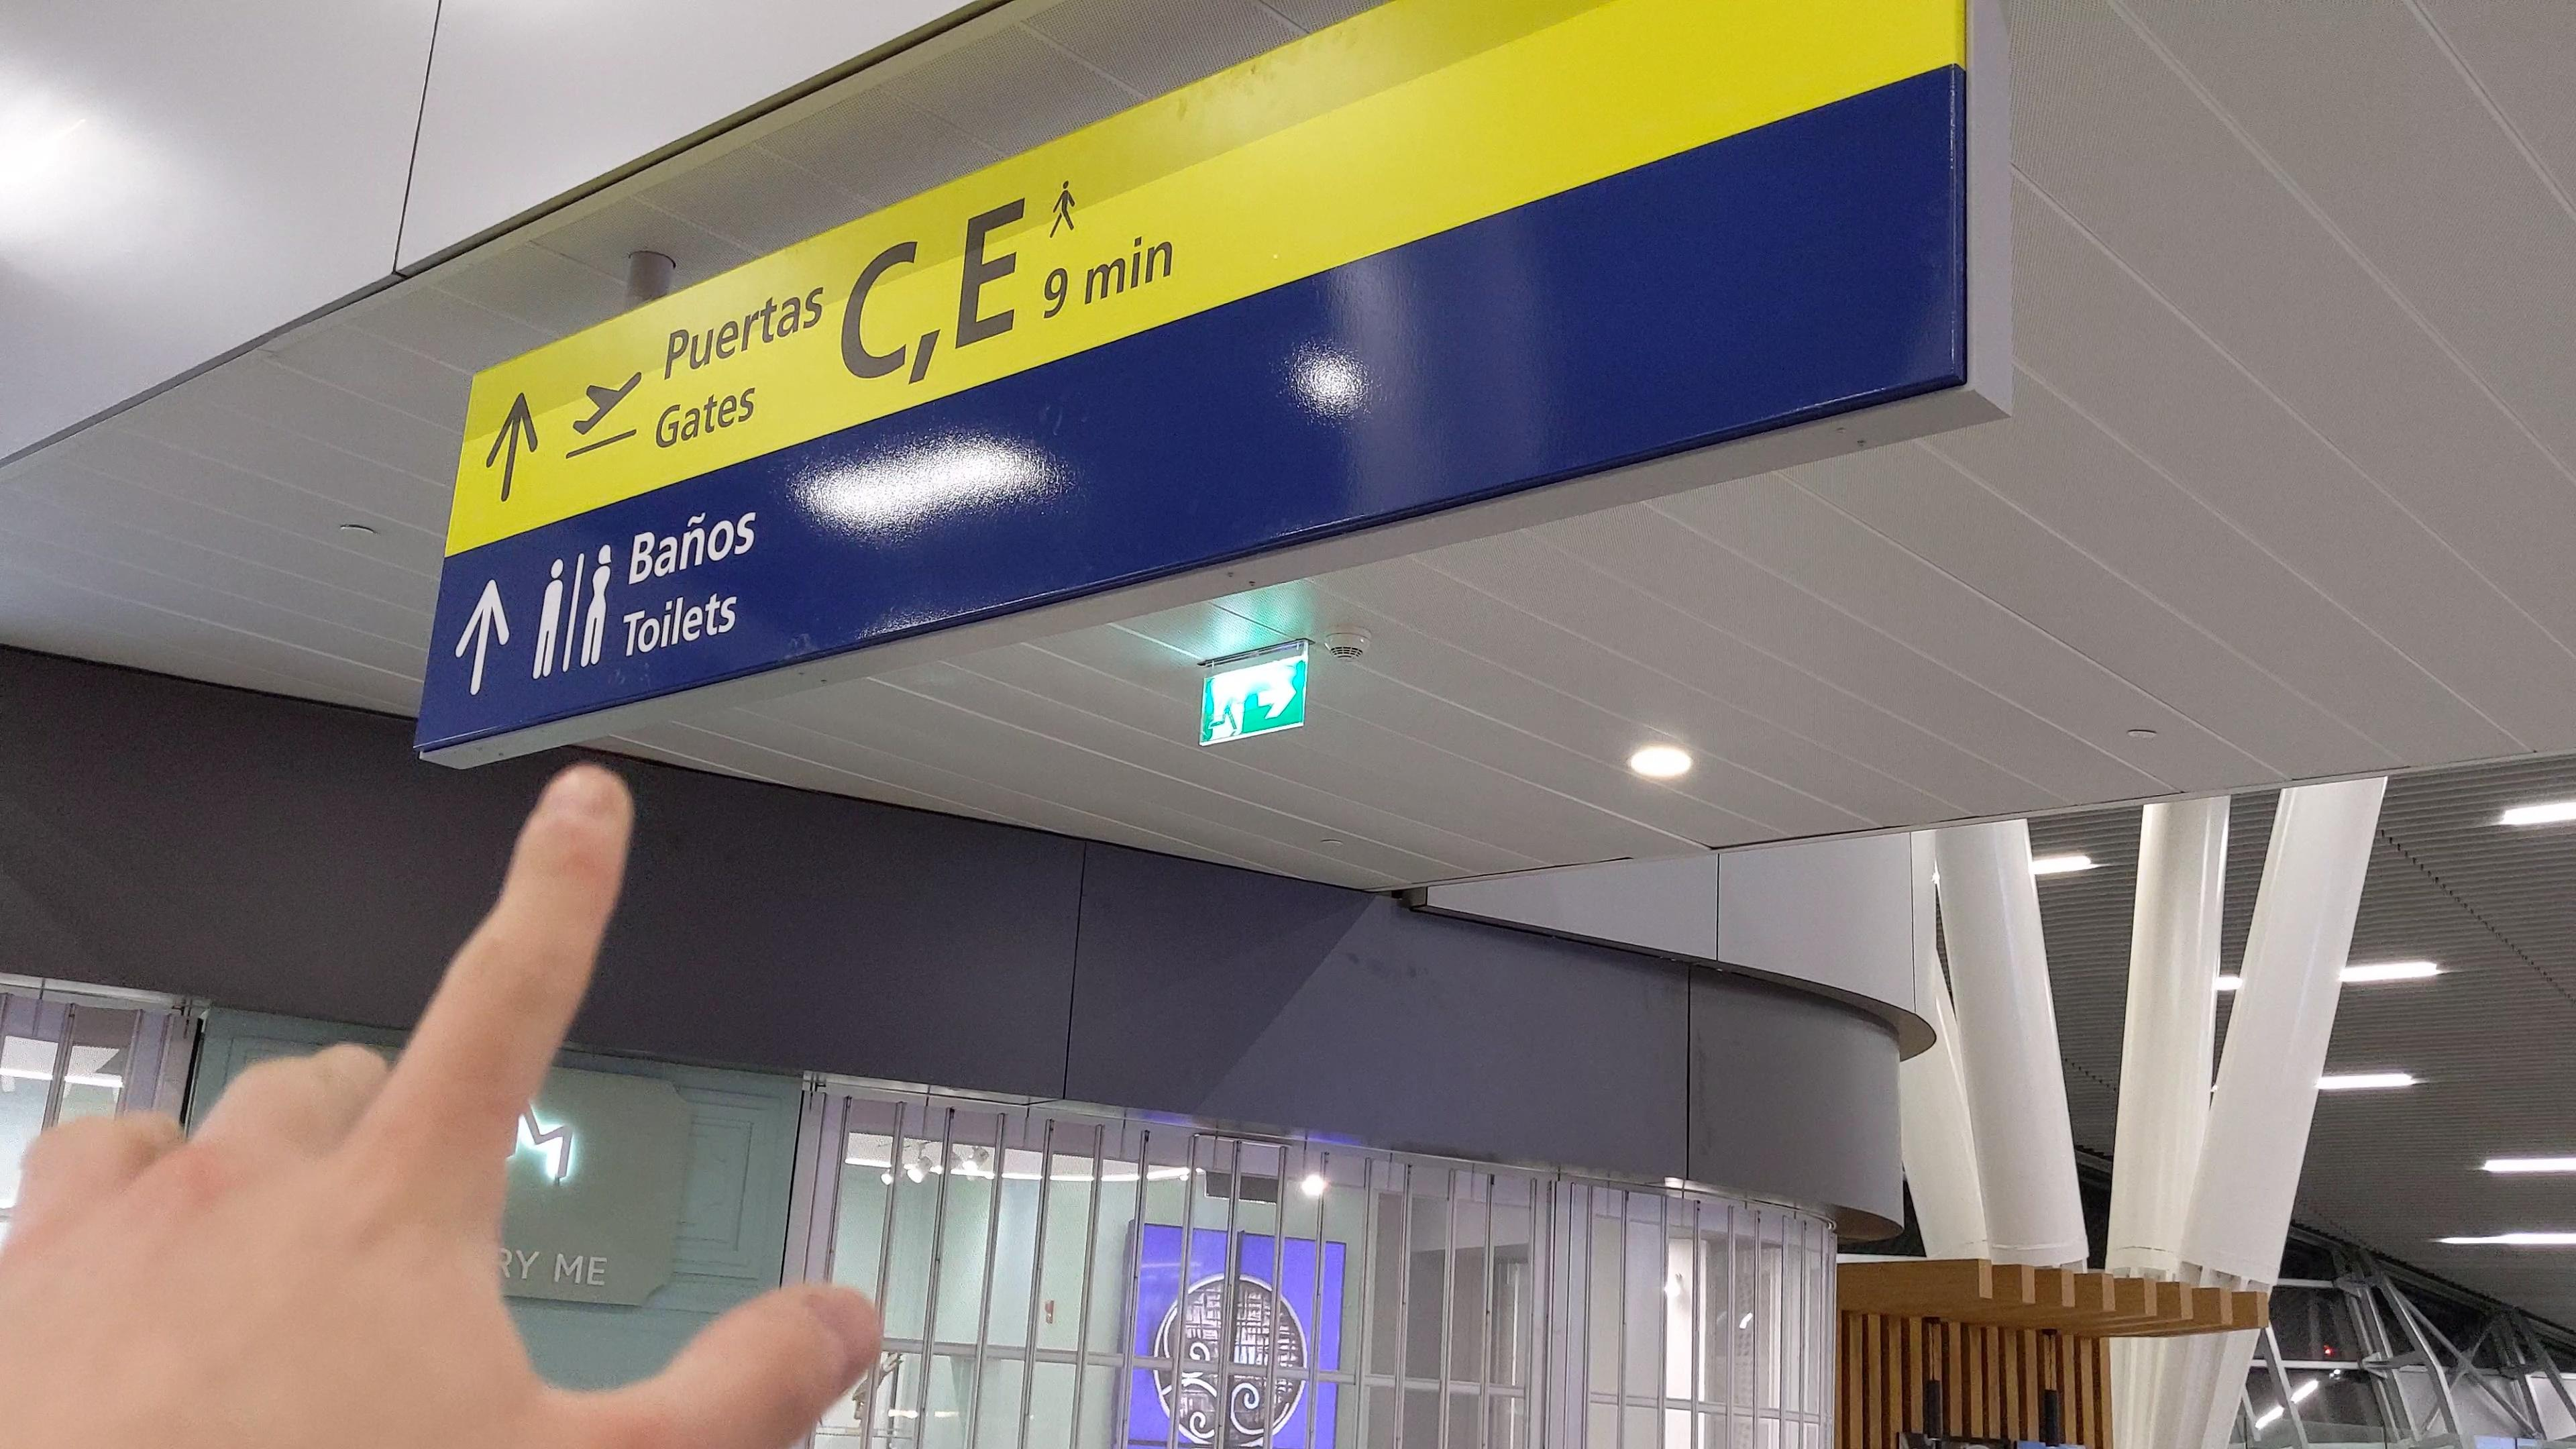airplane symbol: (568, 368, 647, 441)
bathrooms: (525, 540, 618, 682)
emergency exit: (1203, 674, 1249, 744)
emergency right arrow: (1252, 667, 1302, 723)
thin up arrow: (453, 568, 515, 700), (482, 387, 539, 505)
